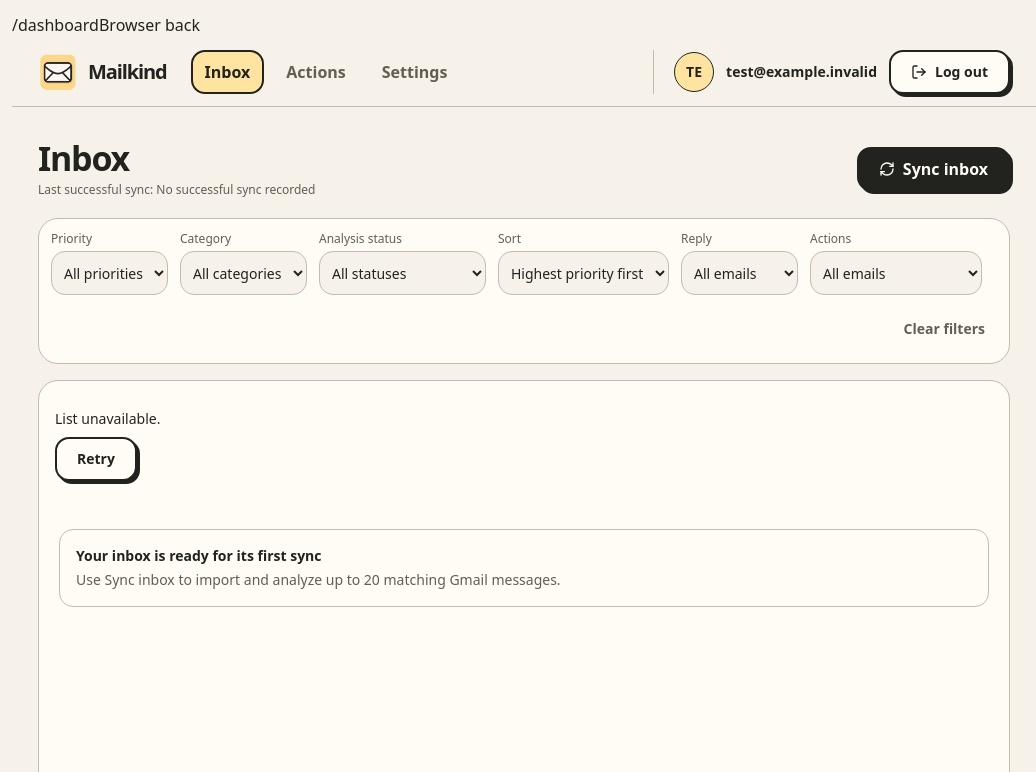
Test case: shows loading, empty, and retryable error states without inference
Later steps or results of the test are not shown.
Expected: the text "List unavailable." is shown, [55,410,160,428]
Expected: the text "Your inbox is ready for its first sync" is shown, [76,546,322,566]
Click the button "Retry". click: [96, 460]
box: [55,438,137,482]
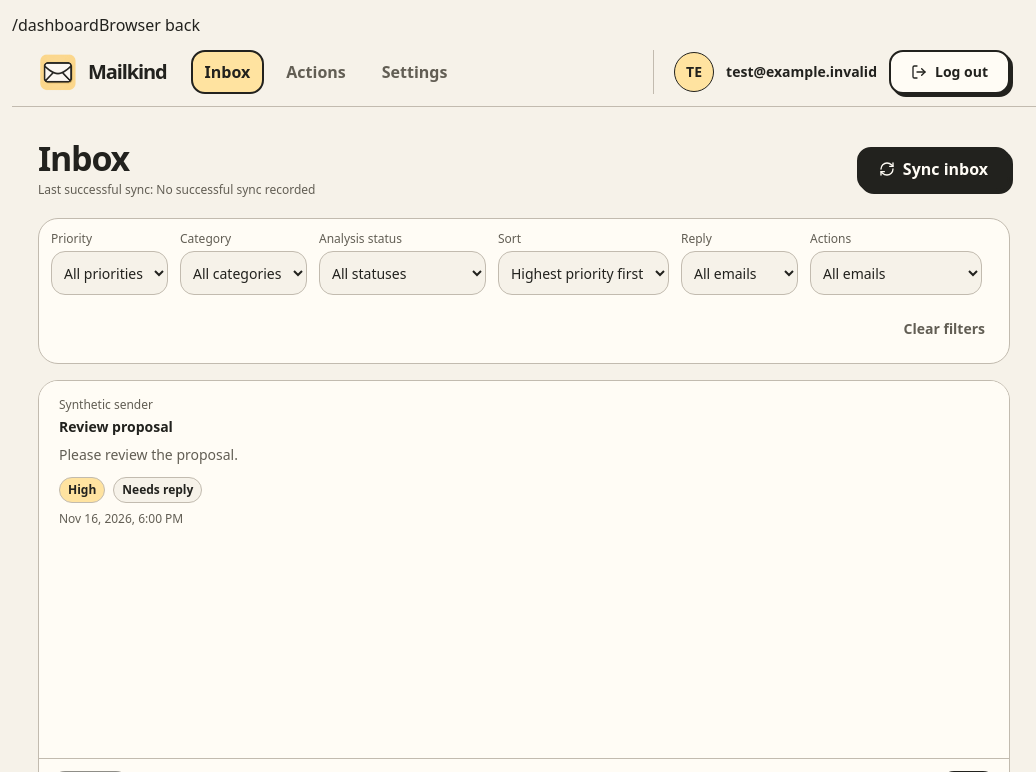
Expected: the text "Review proposal" is shown, [59,418,173,436]
